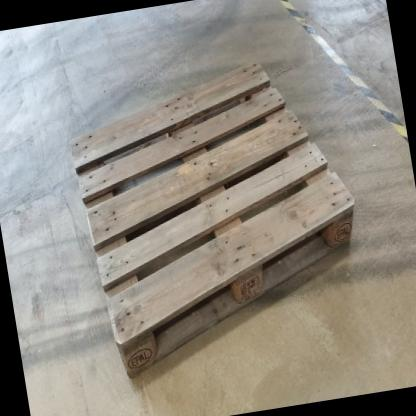BoxFace: (65, 50, 360, 391)
